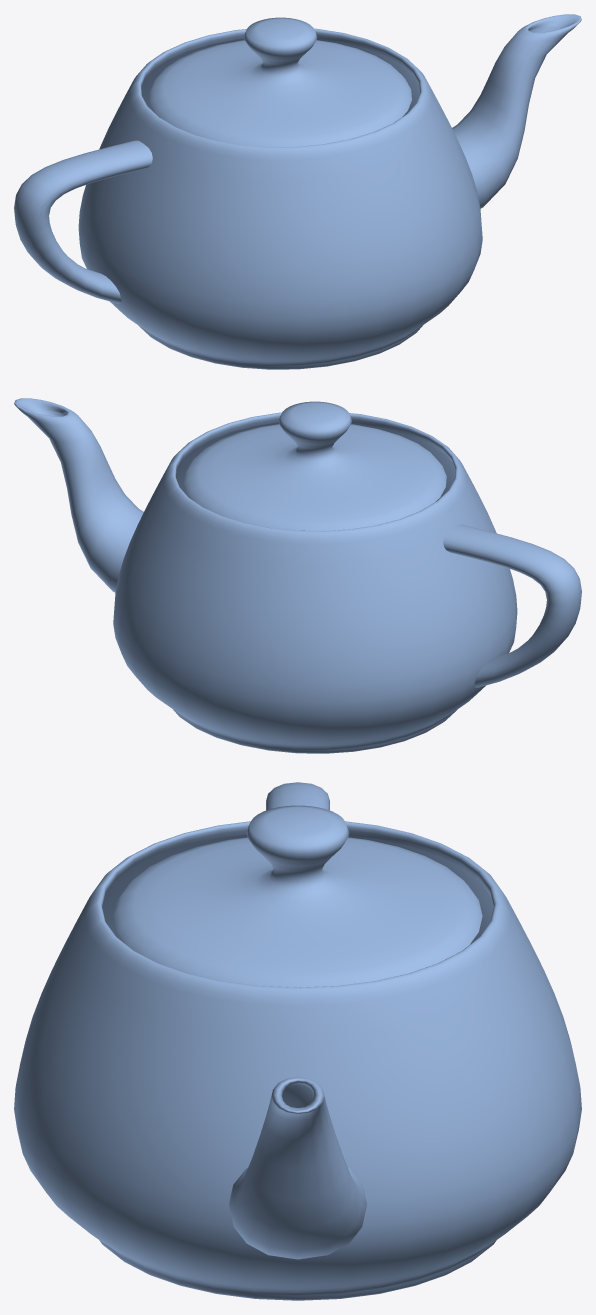
3 renders of one model, top to bottom at view 1: azimuth 30°, elevation 25°; view 2: azimuth 150°, elevation 25°; view 3: azimuth 270°, elevation 25°, orthographic. The views are drawn at different scales.
Parts seen in each view (by area): view 1: Teapot001; view 2: Teapot001; view 3: Teapot001.
Boxes of the visible parts, box(x1,y1,x2,y2) form: Teapot001: box(14, 14, 581, 369); Teapot001: box(14, 398, 581, 753); Teapot001: box(14, 782, 581, 1300).
Bounding box in the file's own units: 31.54 × 15.44 × 19.61.
